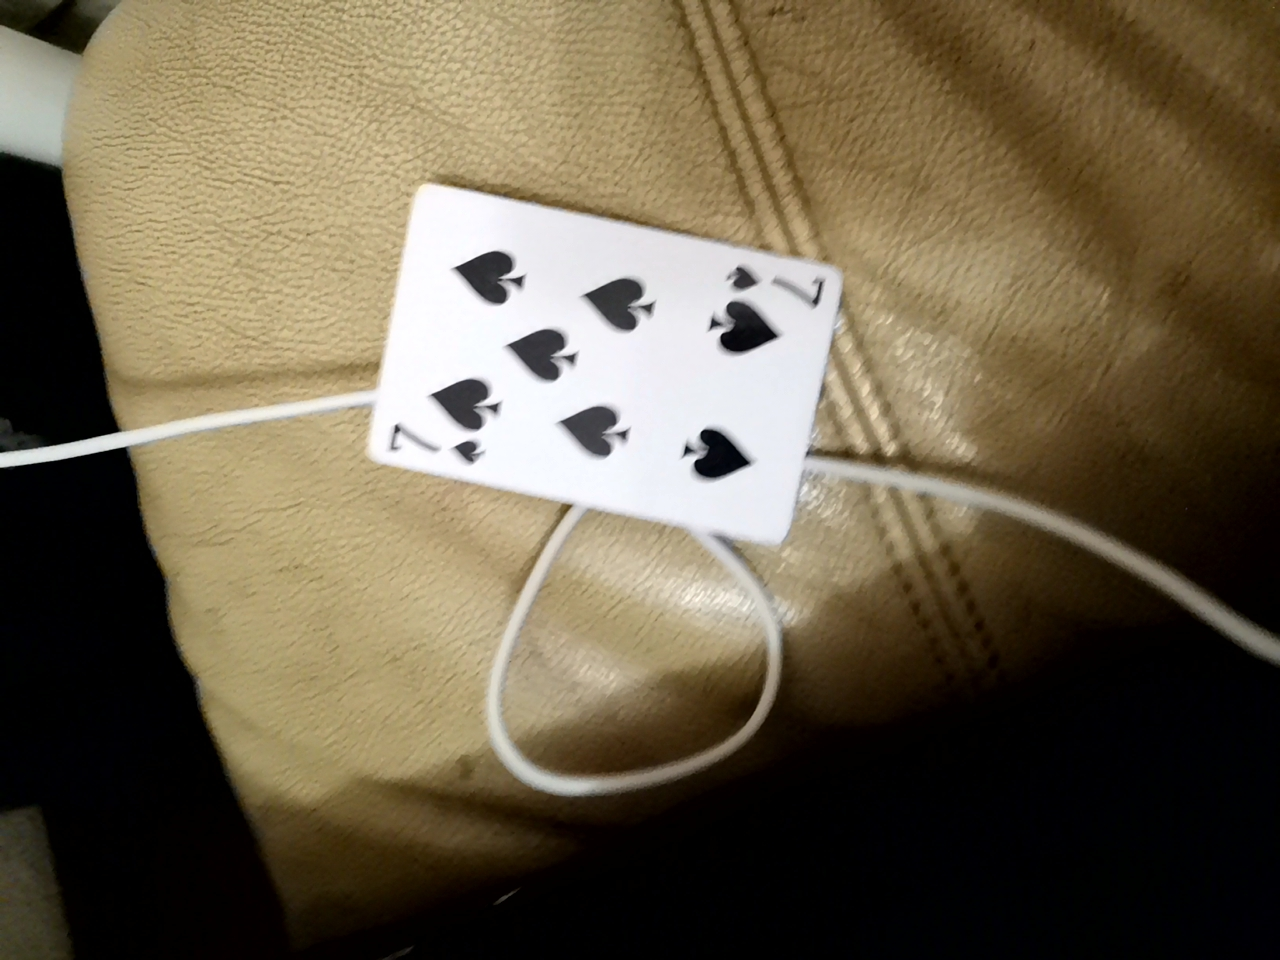ht 7: (310, 192, 835, 586)
